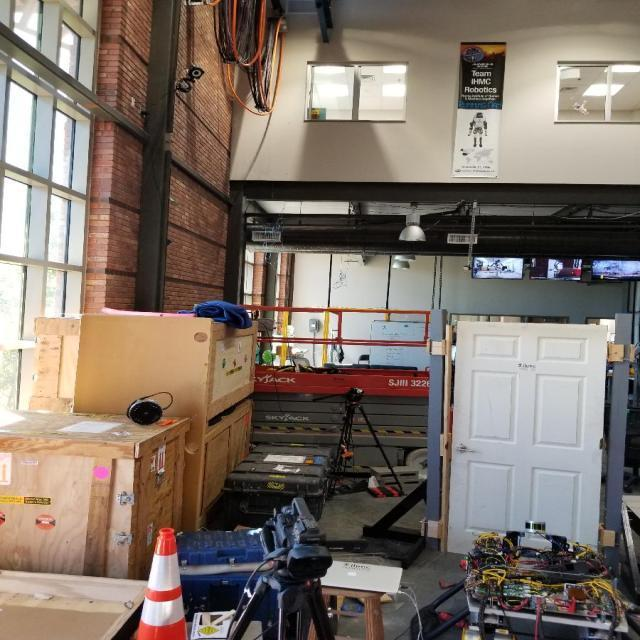door: (442, 316, 610, 576), (452, 442, 474, 458)
